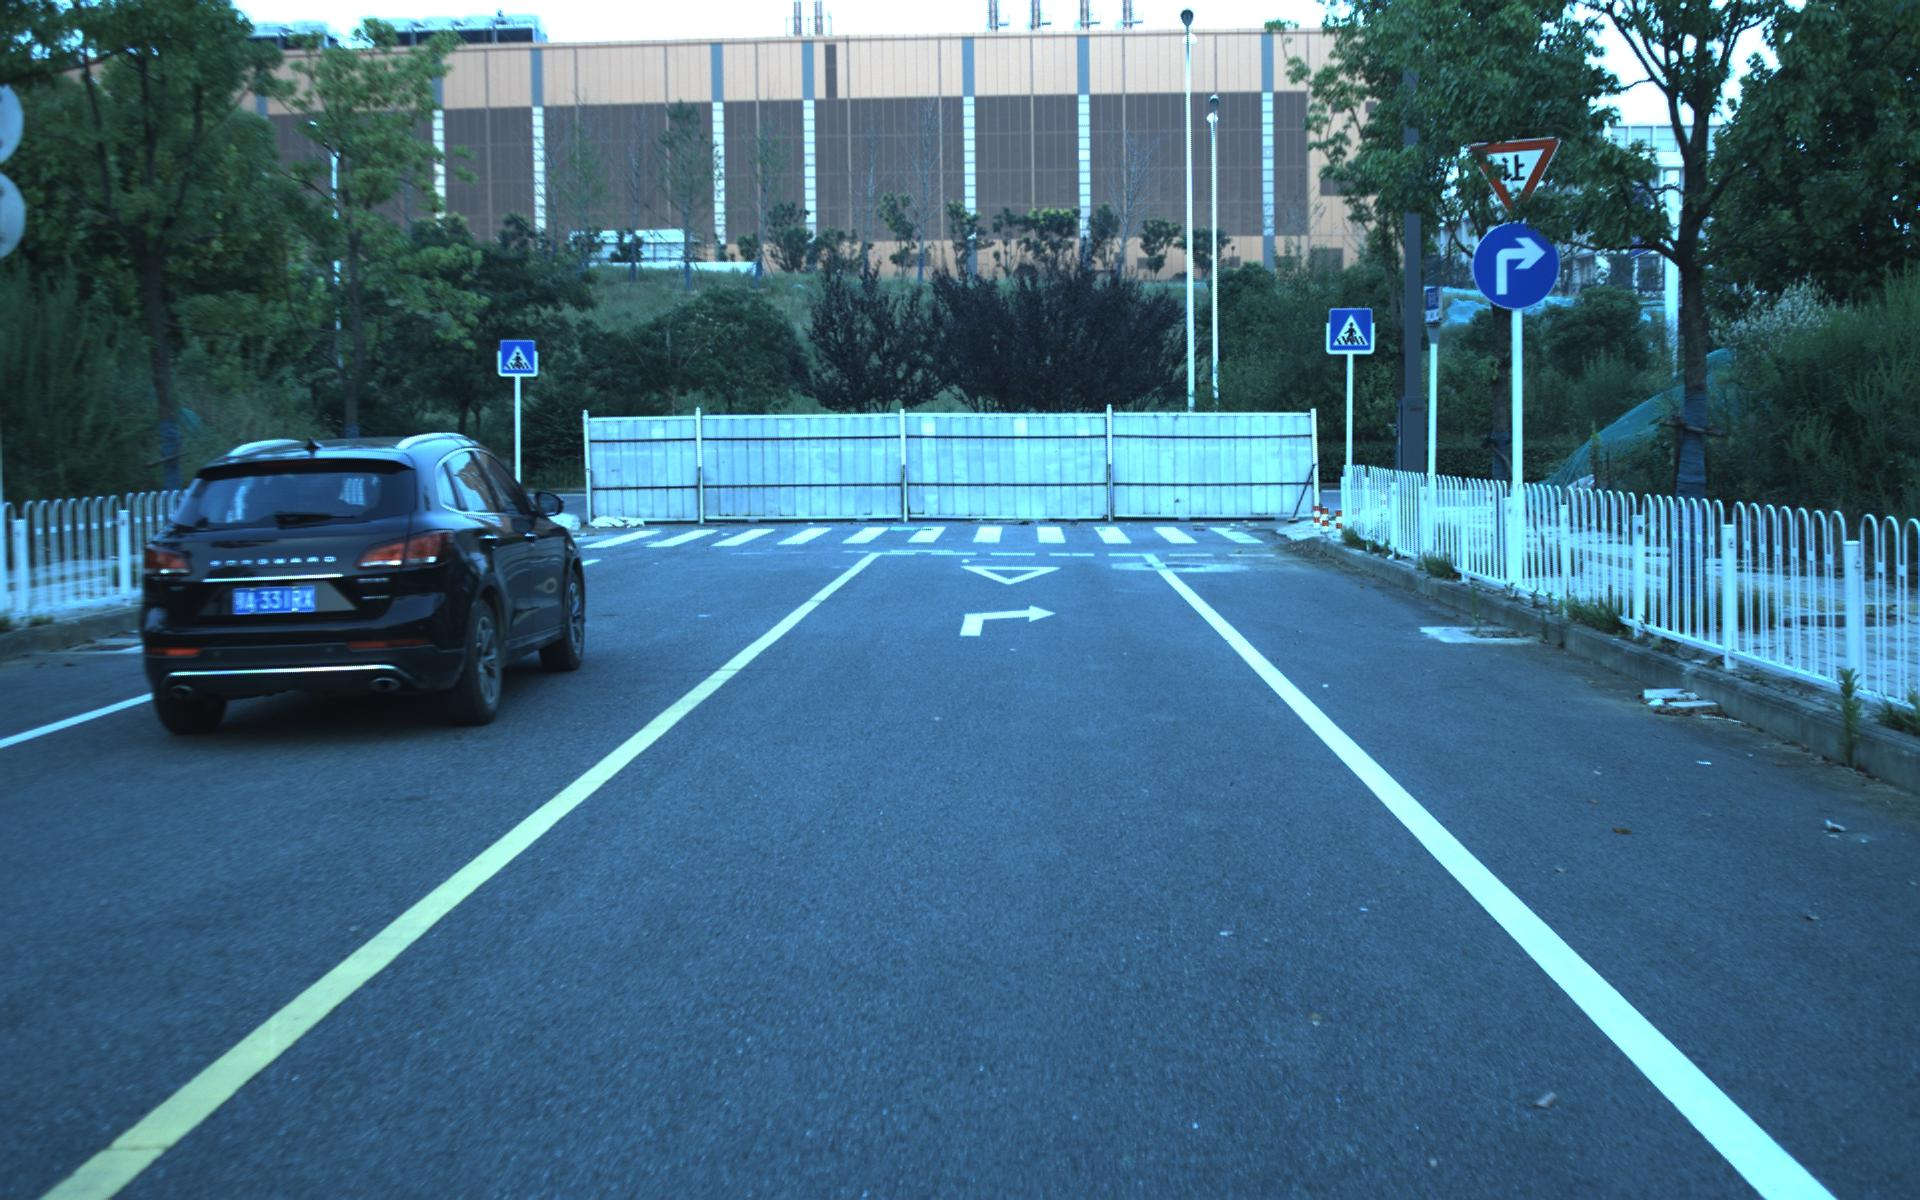Car: (119, 423, 594, 741)
